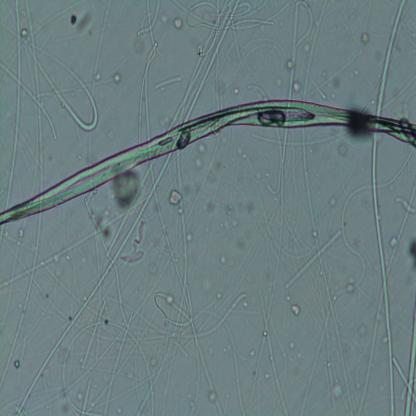Background material: (122, 220, 150, 270), (114, 173, 141, 210), (322, 62, 342, 96), (69, 10, 97, 32), (223, 201, 239, 225), (169, 188, 183, 206), (171, 14, 185, 32), (332, 384, 344, 402), (338, 142, 350, 160), (196, 141, 208, 159), (235, 144, 248, 160), (193, 156, 207, 170), (346, 276, 356, 294), (360, 31, 371, 47), (290, 305, 303, 318), (328, 196, 342, 208), (293, 82, 304, 96), (110, 68, 121, 82), (206, 202, 215, 218), (207, 392, 219, 403), (390, 236, 400, 249), (218, 256, 228, 267), (12, 360, 21, 368), (186, 233, 194, 242)
Cotton: (0, 99, 416, 230)
Glass filter fibre: (13, 154, 174, 414), (146, 154, 226, 416), (166, 2, 258, 130), (370, 134, 400, 414), (23, 34, 104, 132), (0, 212, 45, 385), (79, 2, 114, 166), (154, 291, 249, 345), (0, 60, 62, 139), (0, 1, 22, 211), (257, 286, 292, 415), (130, 0, 159, 143), (281, 227, 342, 291), (375, 1, 409, 115), (103, 307, 136, 414), (286, 1, 313, 101), (78, 298, 110, 372), (224, 319, 247, 415), (248, 130, 360, 147), (403, 290, 416, 415), (393, 190, 416, 221), (152, 74, 184, 92), (80, 375, 94, 412)
